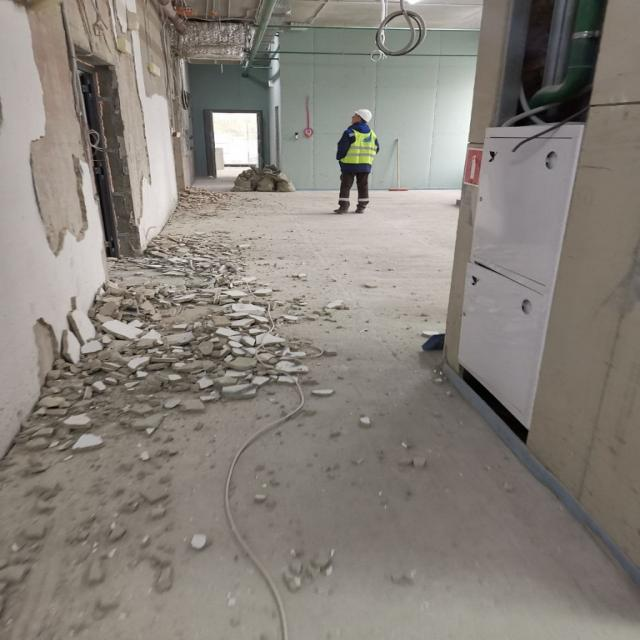Helmet: (351, 110, 373, 124)
Jacket: (344, 123, 378, 166)
